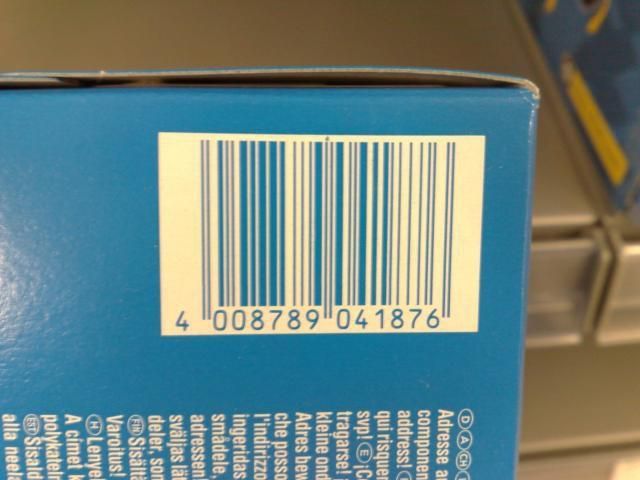Barcode: (158, 133, 485, 339)
